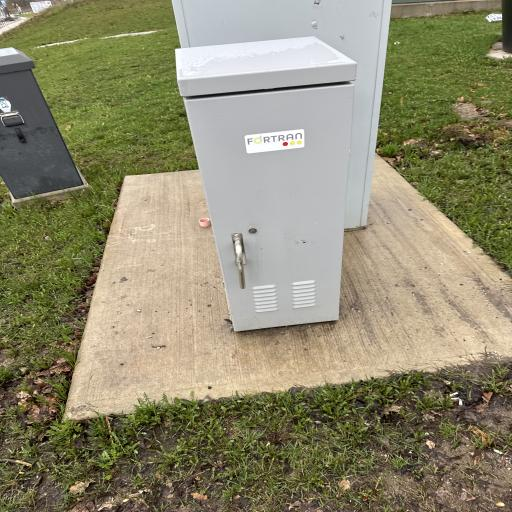Electrical Box: (167, 0, 395, 333)
